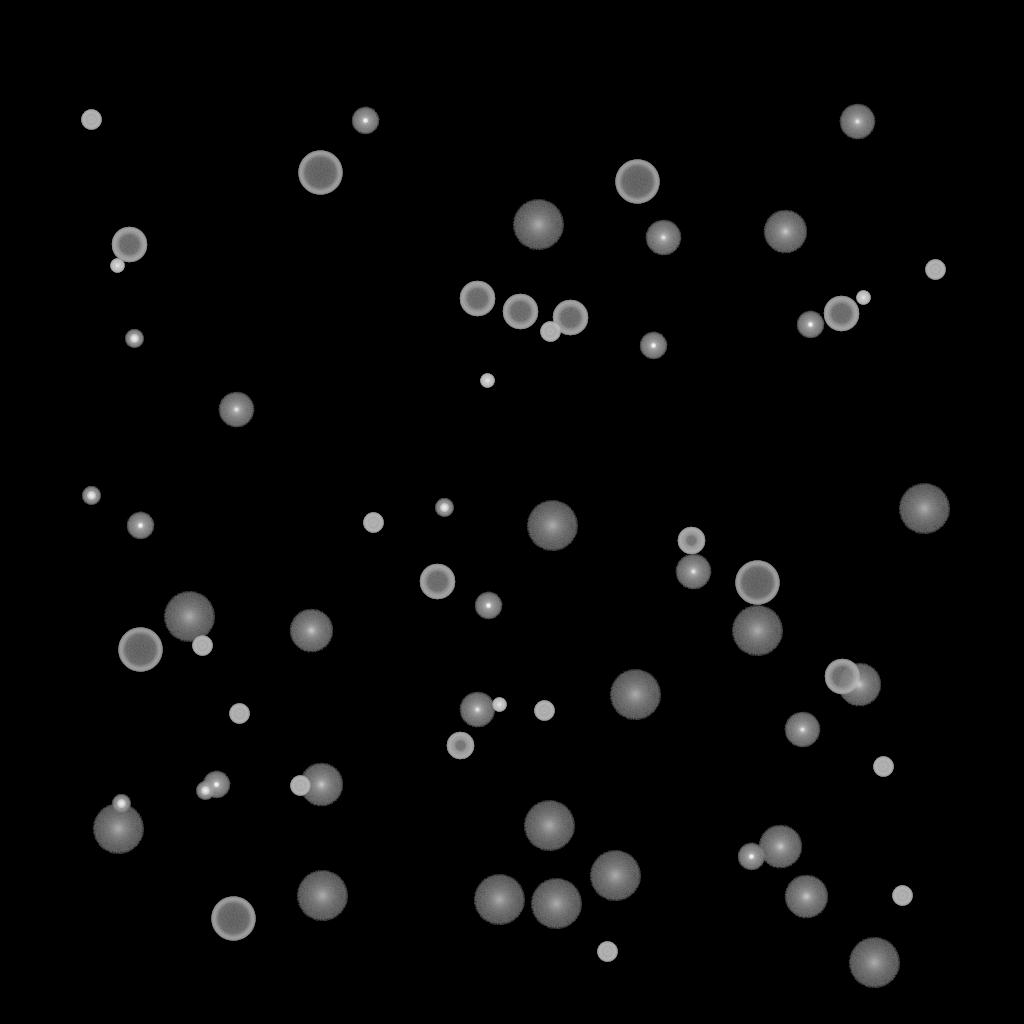depth:-10: (202, 771, 230, 799), (351, 107, 379, 135), (474, 592, 502, 620), (126, 512, 154, 540), (796, 311, 824, 339), (737, 843, 765, 871), (639, 332, 667, 360)
depth:-20: (112, 795, 130, 813), (196, 782, 214, 800), (435, 499, 453, 517), (82, 487, 100, 505), (125, 330, 143, 348)
depth:-30: (492, 698, 506, 712), (480, 374, 494, 388), (856, 291, 870, 305), (110, 259, 124, 273)
depth:-40: (540, 322, 560, 342), (925, 260, 945, 280), (597, 942, 617, 962), (873, 757, 893, 777), (192, 636, 212, 656), (229, 704, 249, 724), (81, 110, 101, 130), (363, 513, 383, 533), (290, 776, 310, 796), (892, 886, 912, 906), (534, 701, 554, 721)
depth:-50: (677, 527, 705, 555), (446, 732, 474, 760)
depth:-60: (459, 281, 495, 317), (824, 659, 860, 695), (111, 227, 147, 263), (823, 296, 859, 332), (502, 294, 538, 330), (552, 300, 588, 336), (419, 564, 455, 600)
depth:-70: (211, 897, 255, 941), (298, 151, 342, 195), (118, 628, 162, 672), (735, 561, 779, 605), (615, 160, 659, 204)
depth:0: (645, 220, 681, 256), (784, 712, 820, 748), (839, 104, 875, 140), (675, 554, 711, 590), (218, 392, 254, 428), (459, 692, 495, 728)
depth:10: (784, 875, 828, 919), (837, 663, 881, 707), (763, 210, 807, 254), (299, 763, 343, 807), (758, 825, 802, 869), (289, 609, 333, 653)
depth:20: (523, 801, 575, 851), (898, 484, 950, 534), (92, 804, 144, 854), (731, 606, 783, 656), (526, 501, 578, 551), (530, 879, 582, 929), (473, 875, 525, 925), (609, 670, 661, 720), (512, 200, 564, 250), (848, 938, 900, 988), (296, 871, 348, 921), (163, 592, 215, 642), (589, 851, 641, 901)
